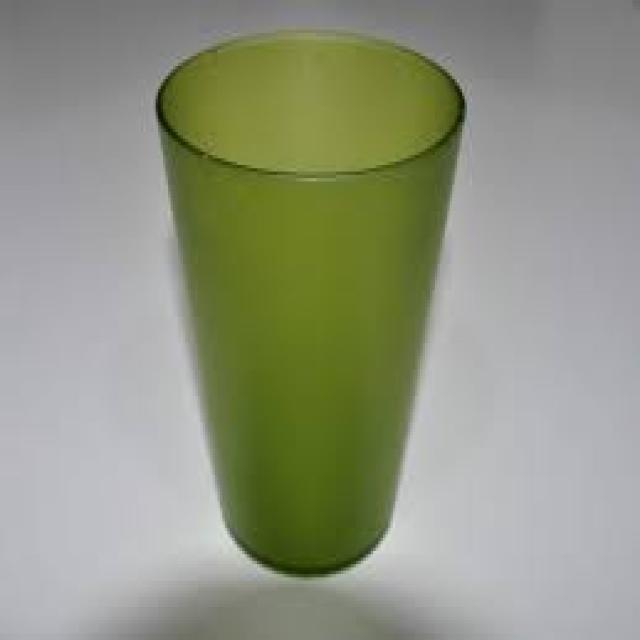glass: (156, 30, 462, 574)
